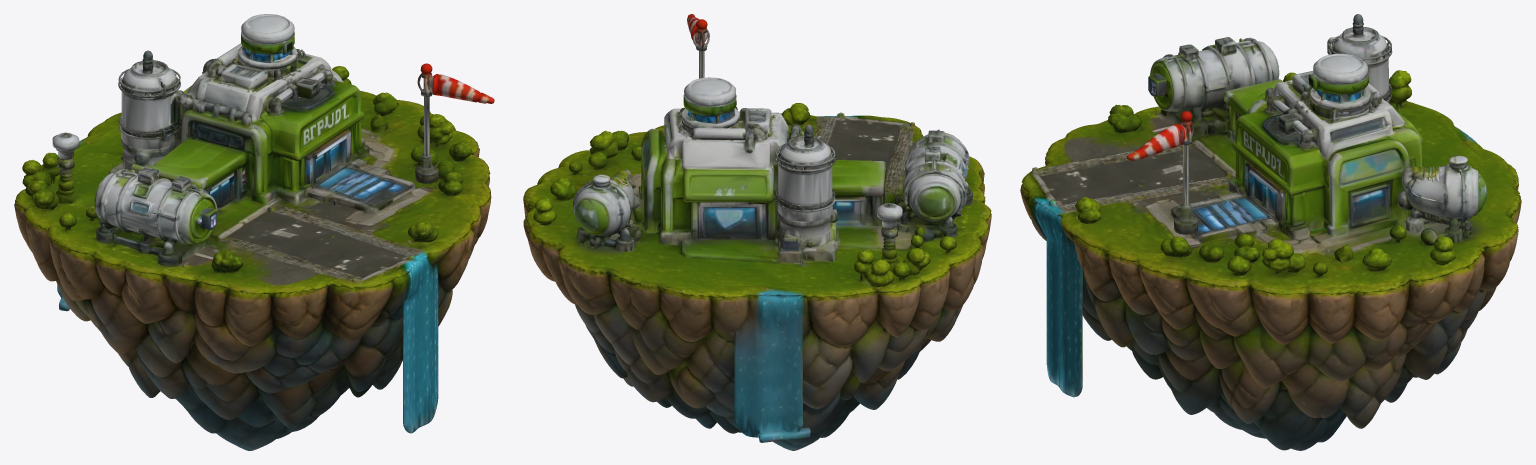
The model's file is refuelstation.glb.
3 views of the same model, side by side, from view 1: azimuth 30°, elevation 25°; view 2: azimuth 150°, elevation 25°; view 3: azimuth 270°, elevation 25° (orthographic). The views are drawn at different scales.
Visible parts, largest first — view 1: material; view 2: material; view 3: material.
Part boxes in pixels (box(x1,y1,x2,y2)): material: box(14, 14, 494, 450); material: box(523, 14, 991, 450); material: box(1020, 14, 1521, 450).
Bounding box in the file's own units: 1.01 × 0.8963 × 1.01.
1 material, 1 textured.
